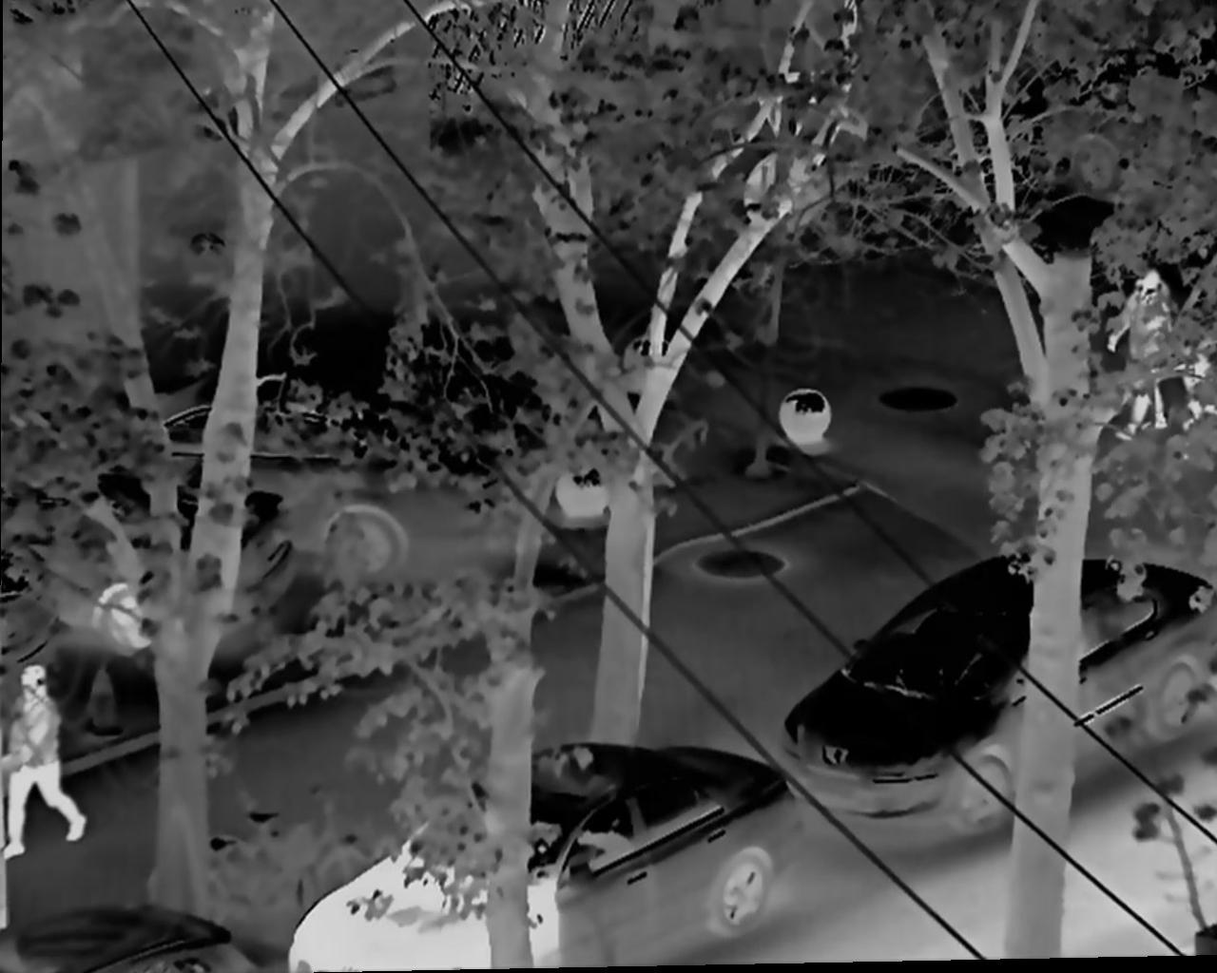person: (2, 663, 87, 851), (1107, 266, 1169, 434)
